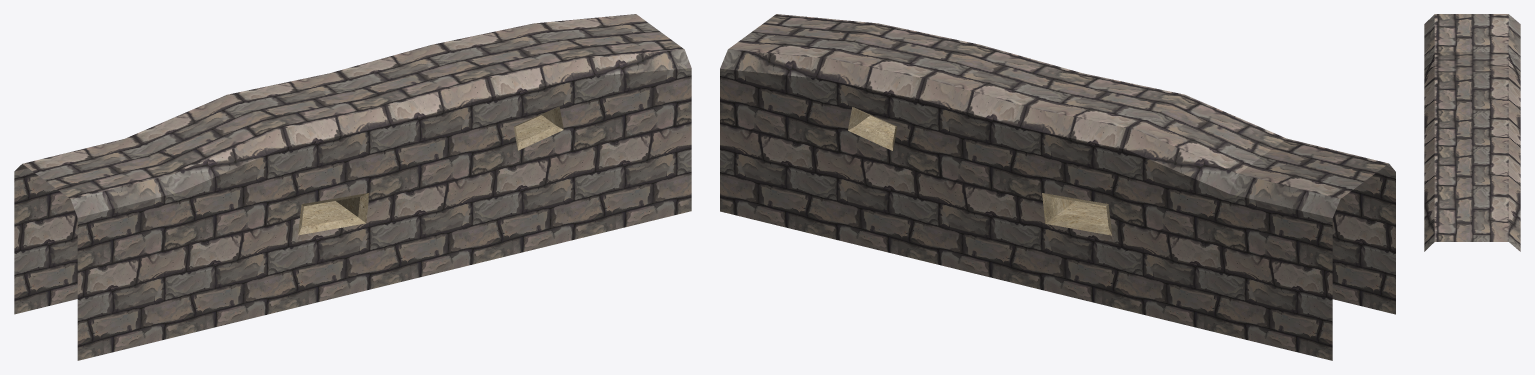
File: OuterWallB.fbx
3 views of the same model, side by side, from view 1: azimuth 30°, elevation 25°; view 2: azimuth 150°, elevation 25°; view 3: azimuth 270°, elevation 25° (orthographic). The views are drawn at different scales.
Parts seen in each view (by area): view 1: polySurface28; view 2: polySurface28; view 3: polySurface28.
Part boxes in pixels (left/top/right/bottom): polySurface28: left=14, top=14, right=691, bottom=360; polySurface28: left=720, top=14, right=1395, bottom=360; polySurface28: left=1424, top=14, right=1520, bottom=251.
Size of the model in its own units: 11.18 by 3.06 by 2.
